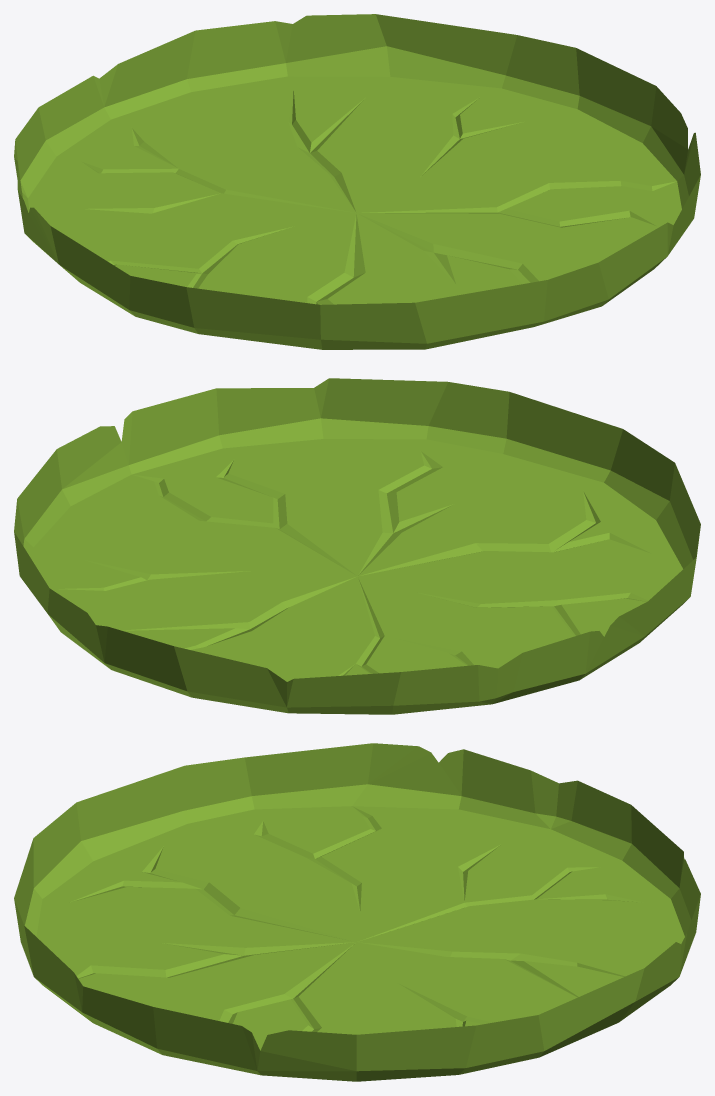
Rendered from SM_Waterlily_Giant_Mature_A.fbx.
3 views of the same model, one above another, from view 1: azimuth 30°, elevation 25°; view 2: azimuth 150°, elevation 25°; view 3: azimuth 270°, elevation 25° (orthographic).
Parts seen in each view (by area): view 1: waterlily-giant-mature-a; view 2: waterlily-giant-mature-a; view 3: waterlily-giant-mature-a.
Part boxes in pixels (x1=…): waterlily-giant-mature-a: x1=14, y1=14, x2=700, y2=349; waterlily-giant-mature-a: x1=14, y1=378, x2=700, y2=714; waterlily-giant-mature-a: x1=14, y1=743, x2=700, y2=1081.
Size of the model in its own units: 2.06 by 0.191 by 2.05.
